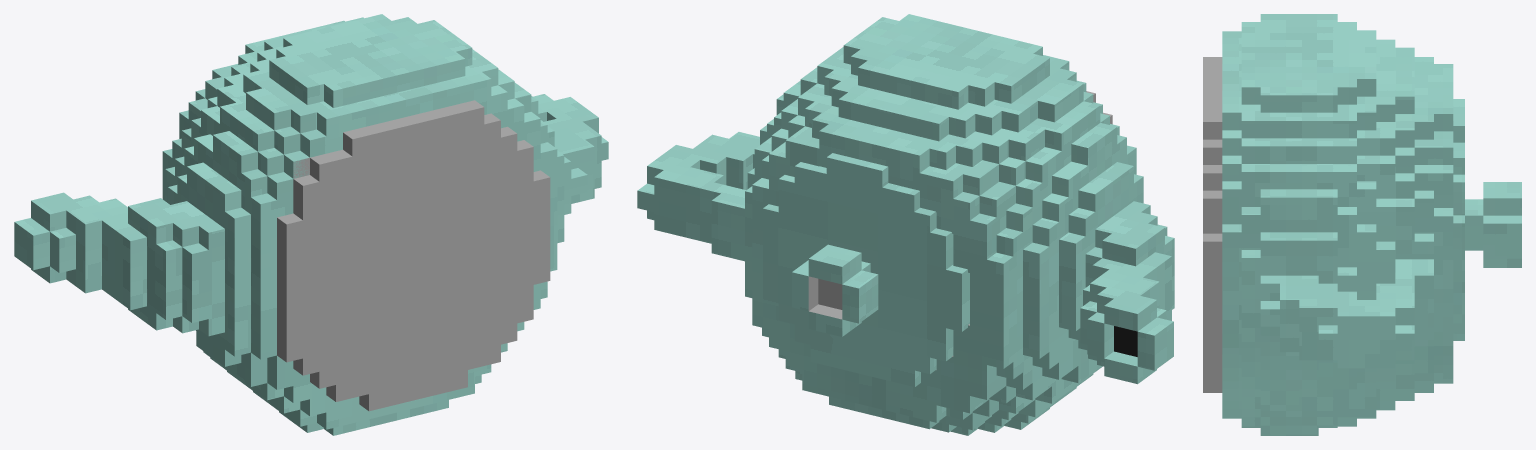
File: Breakable_UtahTeapot.fbx
The picture shows the model from 3 angles, left to right: view 1: azimuth 30°, elevation 25°; view 2: azimuth 150°, elevation 25°; view 3: azimuth 270°, elevation 25°; orthographic projection.
Visible parts, largest first — view 1: Teapot_N, Teapot_F, Teapot_M, Teapot_G, Teapot_A, Teapot_E, Teapot_L, Teapot_H, Teapot_J, Teapot_K, Teapot_O, Teapot_I (+1 smaller); view 2: Lid, Teapot_G, Teapot_M, Teapot_C, Teapot_H, Teapot_N, Teapot_Q, Teapot_P, Teapot_O, Teapot_B, Teapot_K, Teapot_D (+3 smaller); view 3: Teapot_L, Teapot_O, Teapot_J, Teapot_N, Teapot_K, Teapot_B, Lid, Teapot_P, Teapot_Q, Teapot_E, Teapot_I, Teapot_M.
Boxes of the visible parts, x1,y1,x2,y2 form: Teapot_N: (264, 22, 458, 247); Teapot_F: (203, 152, 401, 386); Teapot_M: (191, 45, 385, 225); Teapot_G: (128, 89, 250, 366); Teapot_A: (220, 240, 434, 435); Teapot_E: (418, 184, 533, 411); Teapot_L: (411, 27, 547, 192); Teapot_H: (14, 192, 146, 310); Teapot_J: (451, 126, 564, 309); Teapot_K: (538, 97, 608, 203); Teapot_O: (297, 14, 443, 35); Teapot_I: (564, 157, 587, 214); Lid: (763, 153, 969, 386); Teapot_G: (936, 162, 1174, 360); Teapot_M: (939, 54, 1119, 207); Teapot_C: (946, 251, 1078, 419); Teapot_H: (1080, 252, 1173, 384); Teapot_N: (877, 18, 1052, 141); Teapot_Q: (769, 102, 972, 216); Teapot_P: (654, 170, 783, 292); Teapot_O: (747, 38, 914, 188); Teapot_B: (745, 279, 946, 429); Teapot_K: (637, 132, 759, 220); Teapot_D: (903, 324, 969, 409); Teapot_L: (1203, 79, 1356, 232); Teapot_O: (1318, 62, 1433, 284); Teapot_J: (1203, 216, 1337, 406); Teapot_N: (1203, 22, 1414, 105); Teapot_K: (1280, 283, 1414, 368); Teapot_B: (1299, 284, 1453, 417); Lid: (1453, 99, 1521, 340); Teapot_P: (1376, 190, 1453, 360); Teapot_Q: (1395, 57, 1453, 190); Teapot_E: (1203, 355, 1376, 435); Teapot_I: (1260, 250, 1356, 335); Teapot_M: (1222, 14, 1395, 47).
Size of the model in its own units: 32 by 20 by 16.57.
Materials: 2 (2 with a texture image).
